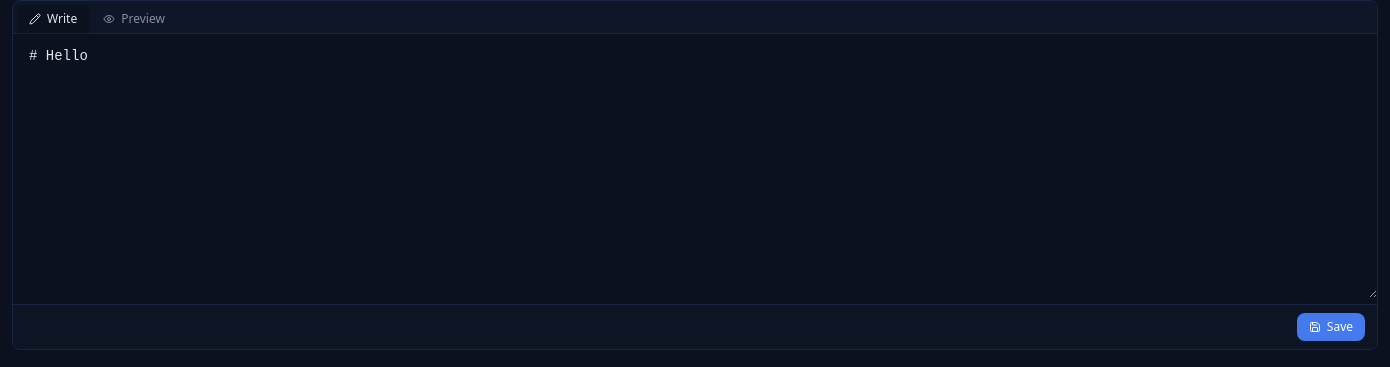
Scenario: MarkdownEditorSurface — save (load-bearing) › Save button is disabled while mutation is pending
Click the button with aria-label "save markdown content" at (1331, 327), box [1297, 313, 1365, 341]
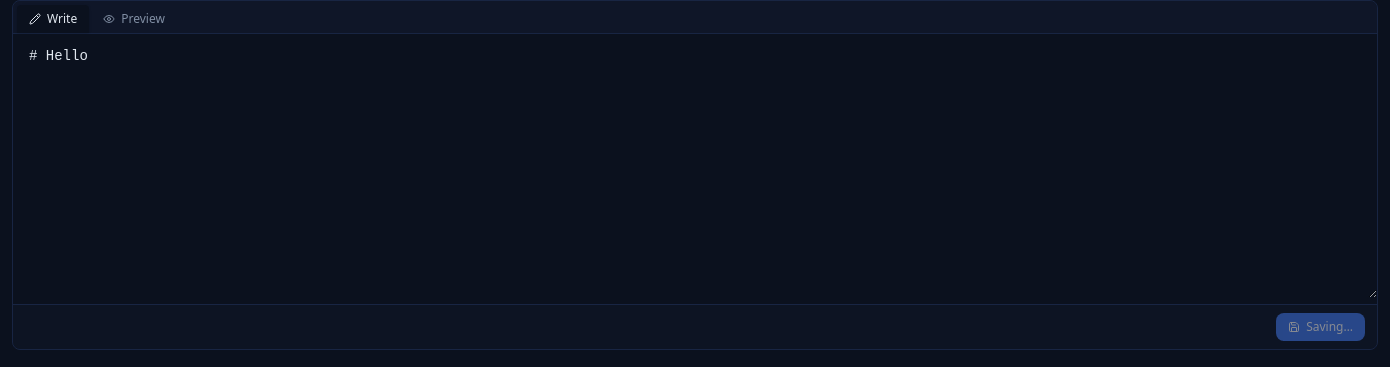
Result: the button with aria-label "save markdown content" is disabled at [1276, 313, 1365, 341]
